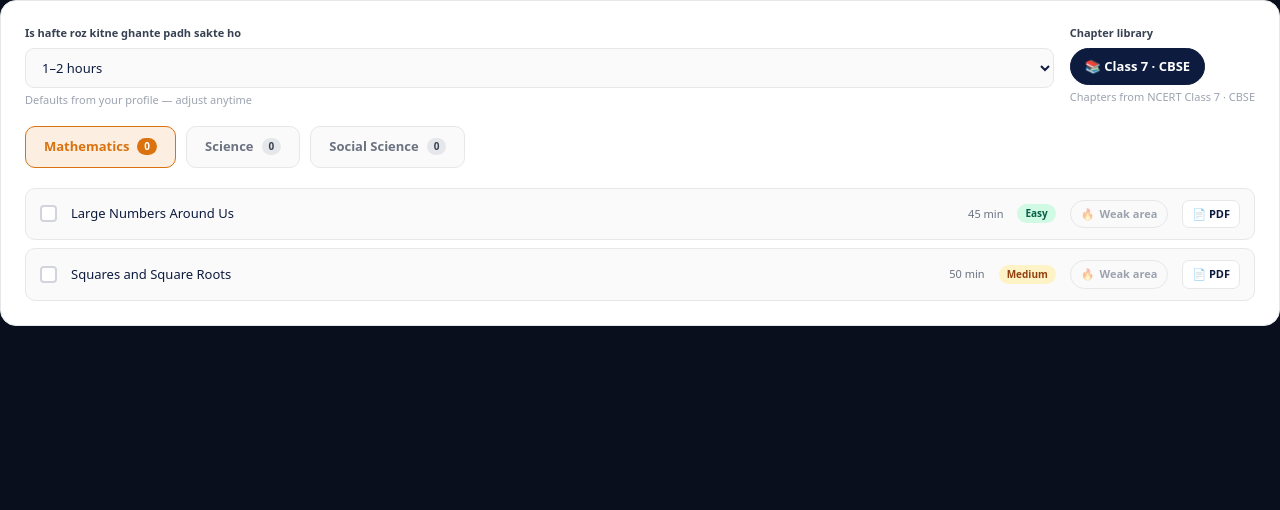
Test: TC-19: clicking a chapter row selects it and shows sticky bar › shows selected count in sticky bar after clicking a chapter
Click the button with test id "chapter-row" that starts with "Large Numbers Around Us": (152, 213) [25, 188, 1255, 240]
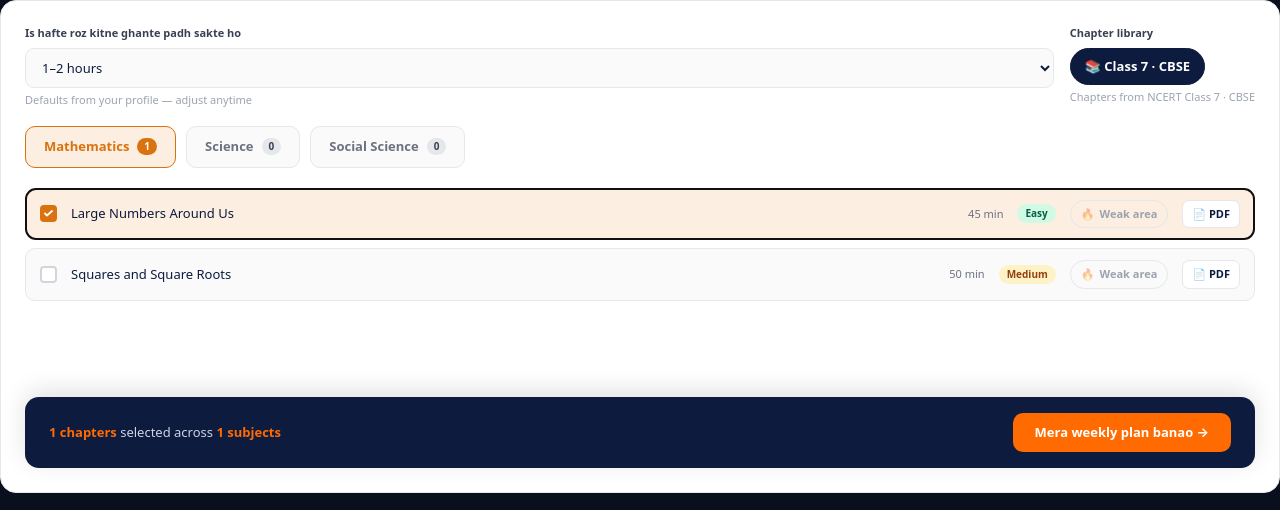
Expected: the element that starts with "chapters" shows "chapters selected", [25, 396, 1255, 468]
